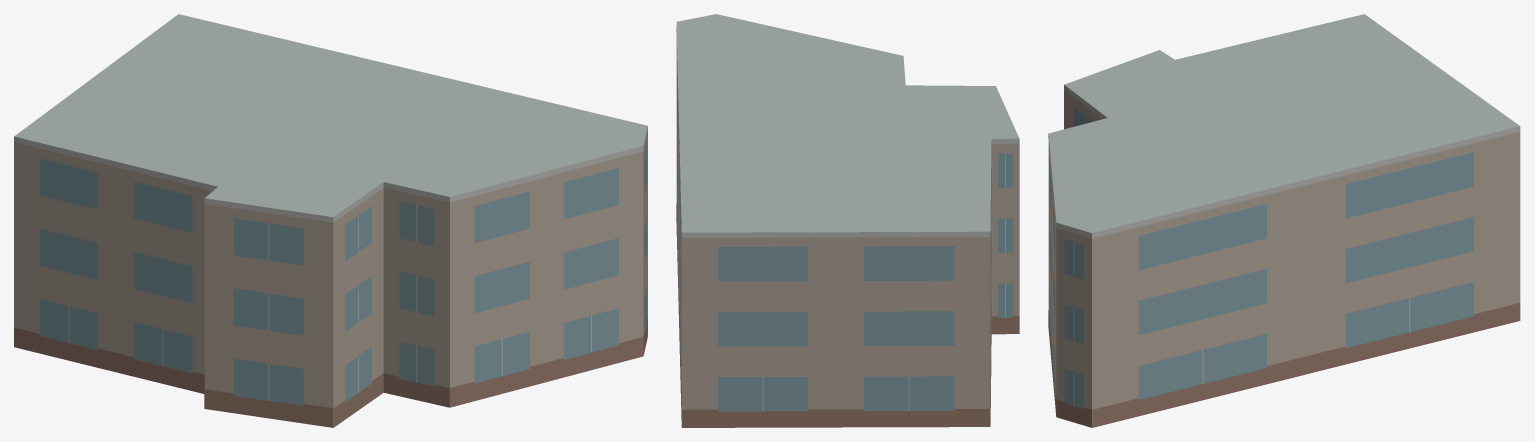
Rendered from survey-upis-32584943.glb.
3 renders of one model, left to right at view 1: azimuth 30°, elevation 25°; view 2: azimuth 150°, elevation 25°; view 3: azimuth 270°, elevation 25°, orthographic. The views are drawn at different scales.
Visible parts, largest first — view 1: survey-upis-32584943.tmp; view 2: survey-upis-32584943.tmp; view 3: survey-upis-32584943.tmp.
Part boxes in pixels (<box>): survey-upis-32584943.tmp: <box>14,14,647,427</box>; survey-upis-32584943.tmp: <box>676,14,1019,427</box>; survey-upis-32584943.tmp: <box>1048,14,1520,427</box>.
Bounding box in the file's own units: 22.11 × 9.15 × 20.11.
